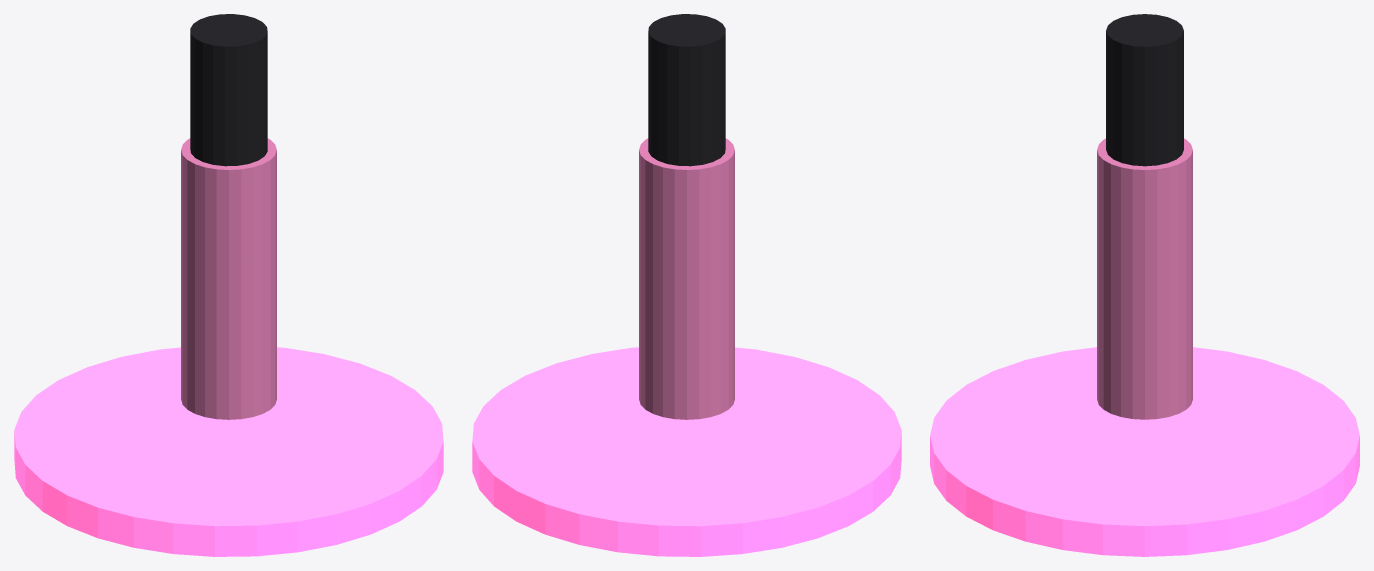
The model's file is beauty_lip_gloss.glb.
The picture shows the model from 3 angles, left to right: view 1: azimuth 30°, elevation 25°; view 2: azimuth 150°, elevation 25°; view 3: azimuth 270°, elevation 25°; orthographic projection.
Visible parts, largest first — view 1: 03_09_Popular_Beauty_Lip_Gloss_ROOT_base, 03_09_Popular_Beauty_Lip_Gloss_part_01, 03_09_Popular_Beauty_Lip_Gloss_part_02; view 2: 03_09_Popular_Beauty_Lip_Gloss_ROOT_base, 03_09_Popular_Beauty_Lip_Gloss_part_01, 03_09_Popular_Beauty_Lip_Gloss_part_02; view 3: 03_09_Popular_Beauty_Lip_Gloss_ROOT_base, 03_09_Popular_Beauty_Lip_Gloss_part_01, 03_09_Popular_Beauty_Lip_Gloss_part_02.
Part boxes in pixels (bbox=[...]): 03_09_Popular_Beauty_Lip_Gloss_ROOT_base: bbox=[14, 347, 443, 556]; 03_09_Popular_Beauty_Lip_Gloss_part_01: bbox=[181, 138, 276, 419]; 03_09_Popular_Beauty_Lip_Gloss_part_02: bbox=[190, 14, 267, 166]; 03_09_Popular_Beauty_Lip_Gloss_ROOT_base: bbox=[472, 347, 901, 556]; 03_09_Popular_Beauty_Lip_Gloss_part_01: bbox=[639, 138, 734, 419]; 03_09_Popular_Beauty_Lip_Gloss_part_02: bbox=[648, 14, 725, 166]; 03_09_Popular_Beauty_Lip_Gloss_ROOT_base: bbox=[930, 347, 1359, 556]; 03_09_Popular_Beauty_Lip_Gloss_part_01: bbox=[1097, 138, 1192, 419]; 03_09_Popular_Beauty_Lip_Gloss_part_02: bbox=[1106, 14, 1183, 166].
Bounding box in the file's own units: 0.76 × 0.85 × 0.76.
